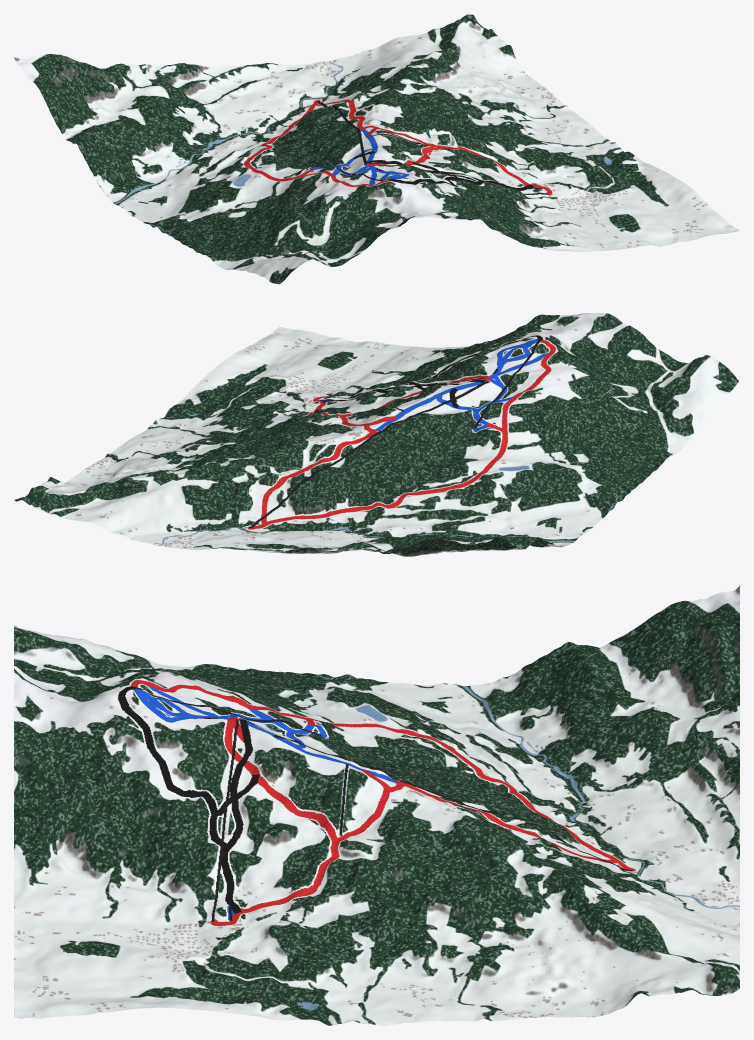
3 renders of one model, top to bottom at view 1: azimuth 30°, elevation 25°; view 2: azimuth 150°, elevation 25°; view 3: azimuth 270°, elevation 25°, orthographic. The views are drawn at different scales.
Parts seen in each view (by area): view 1: G4_Ofterschwanger_Horn.glb; view 2: G4_Ofterschwanger_Horn.glb; view 3: G4_Ofterschwanger_Horn.glb.
Boxes of the visible parts, bbox=[...] form: G4_Ofterschwanger_Horn.glb: bbox=[14, 14, 739, 284]; G4_Ofterschwanger_Horn.glb: bbox=[14, 313, 739, 556]; G4_Ofterschwanger_Horn.glb: bbox=[14, 585, 739, 1025].
Size of the model in its own units: 3842 by 794 by 3842.
Materials: 1 (1 with a texture image).
